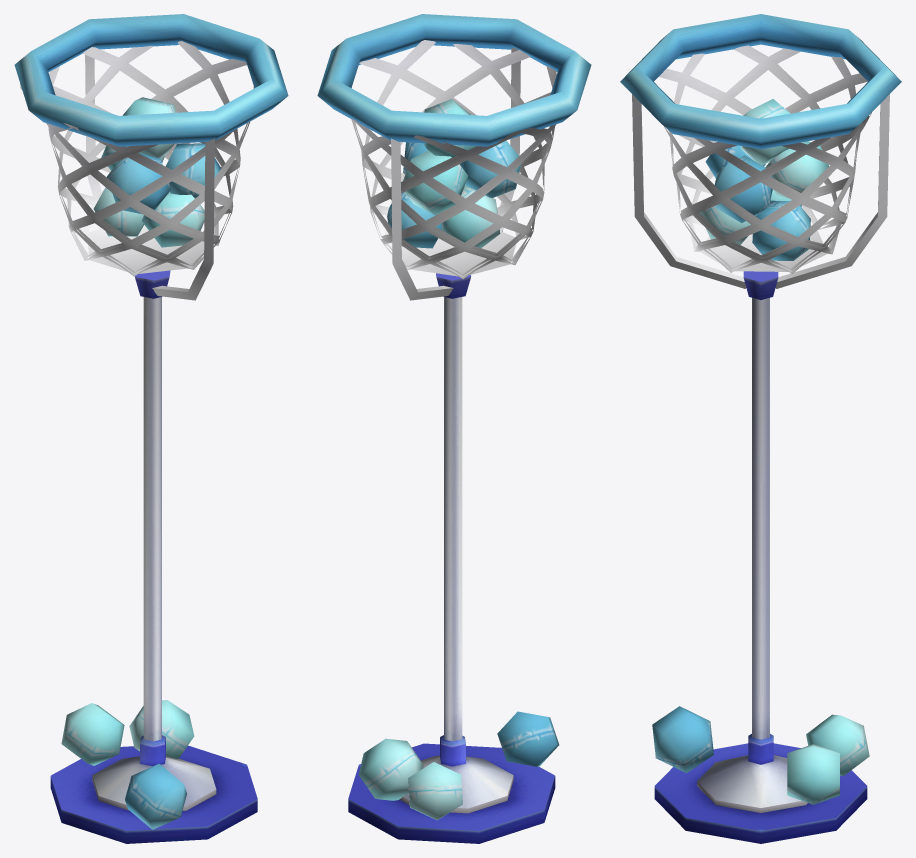
The model's file is my_autumnsports_01_beanball_03.glb.
3 views of the same model, side by side, from view 1: azimuth 30°, elevation 25°; view 2: azimuth 150°, elevation 25°; view 3: azimuth 270°, elevation 25° (orthographic).
Parts seen in each view (by area): view 1: my_autumnsports_01_beanball_03; view 2: my_autumnsports_01_beanball_03; view 3: my_autumnsports_01_beanball_03.
Part boxes in pixels (<box>): my_autumnsports_01_beanball_03: <box>14,14,288,843</box>; my_autumnsports_01_beanball_03: <box>317,14,591,843</box>; my_autumnsports_01_beanball_03: <box>620,14,901,843</box>.
Size of the model in its own units: 0.0055 by 0.0157 by 0.0055.
Materials: 1 (1 with a texture image).
